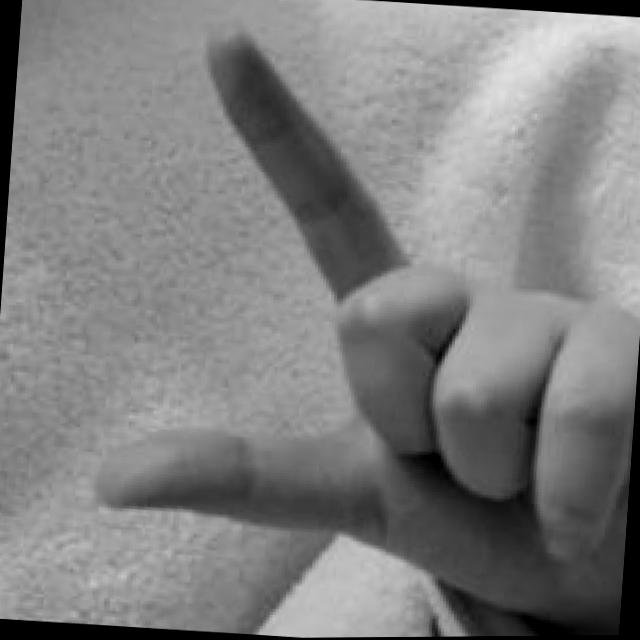L: (82, 8, 640, 635)
